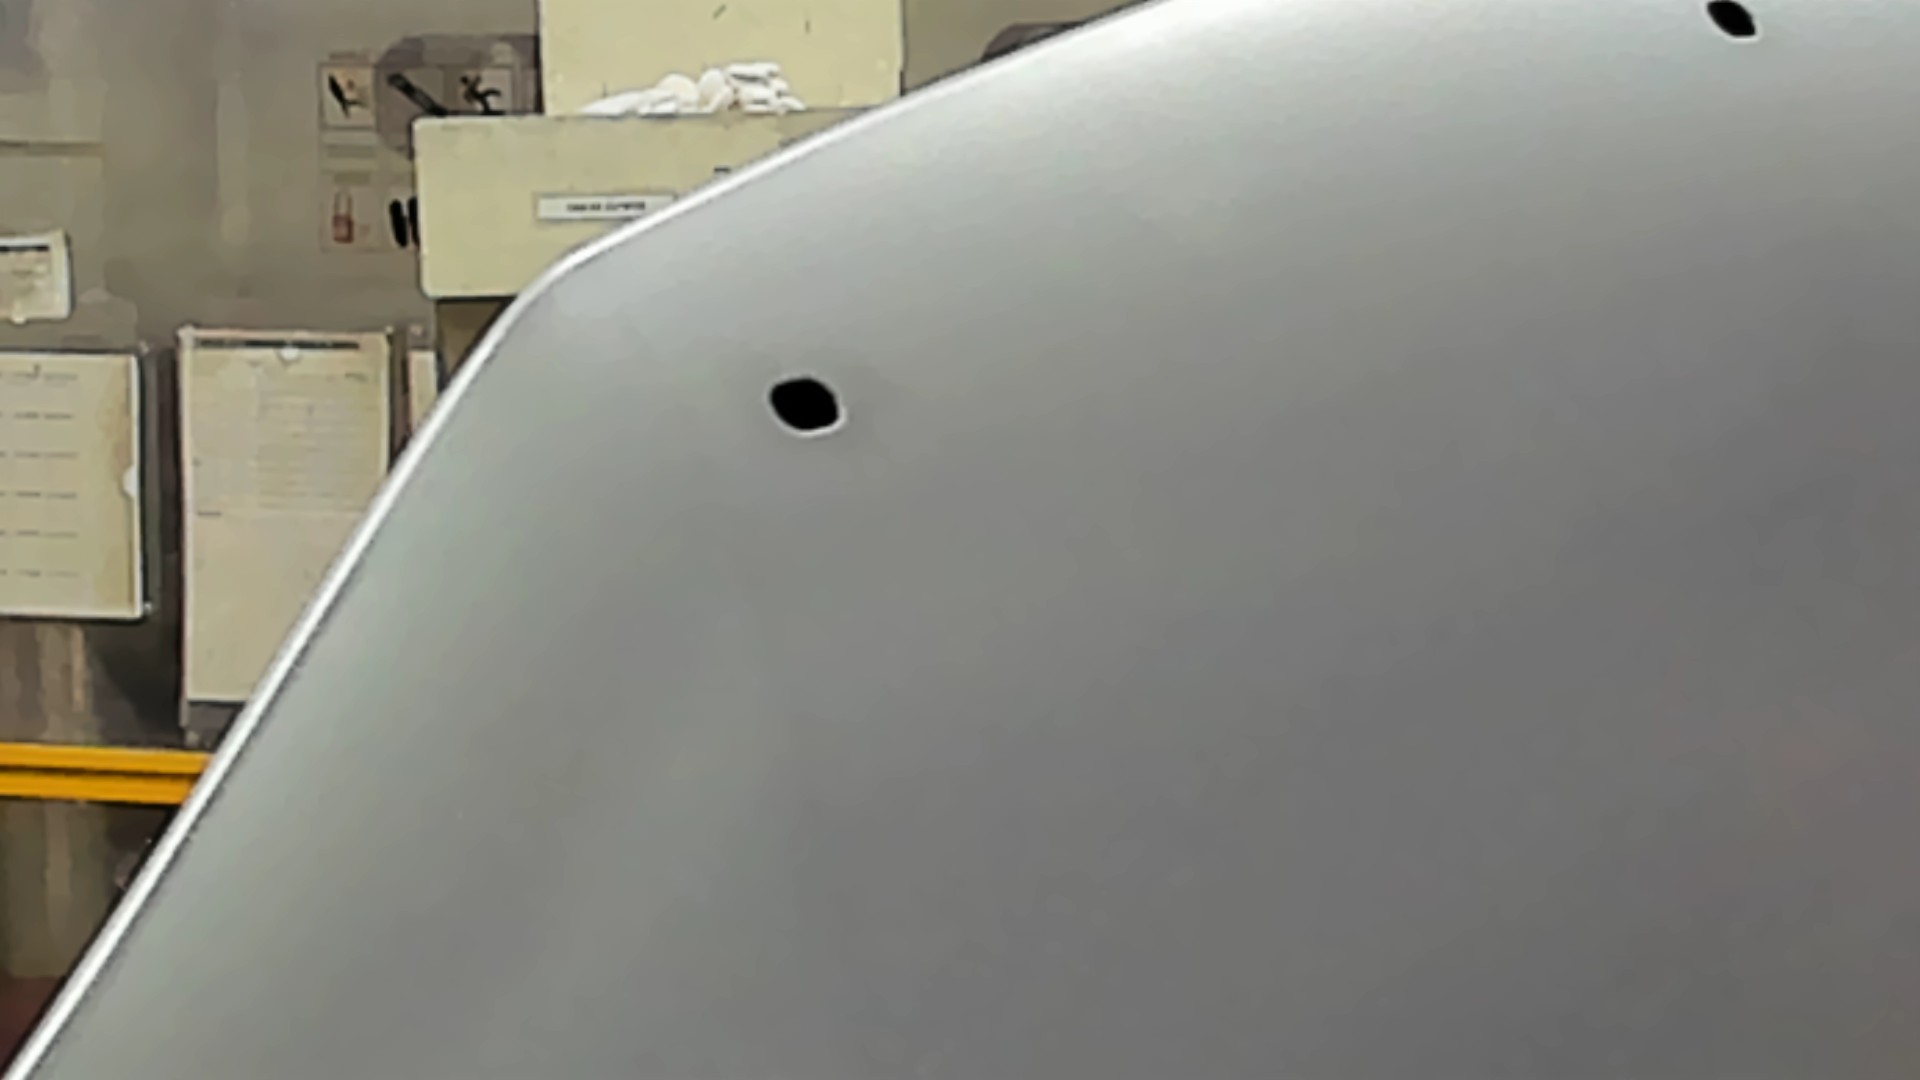amorfo: (766, 373, 852, 442), (1702, 1, 1768, 51)
capo: (1005, 103, 1920, 1080)
